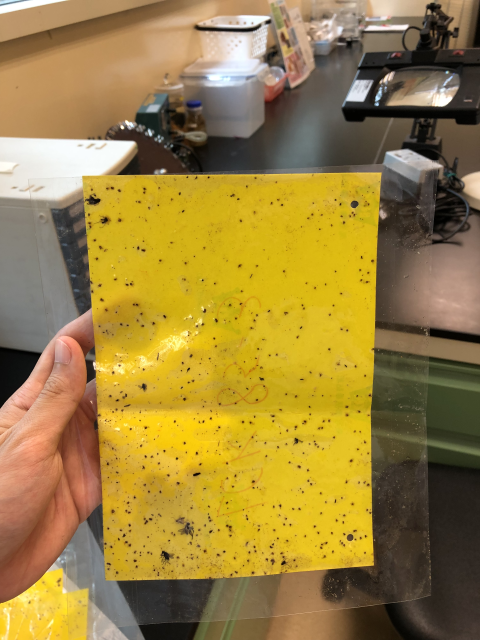DBM: (171, 515, 187, 526)
